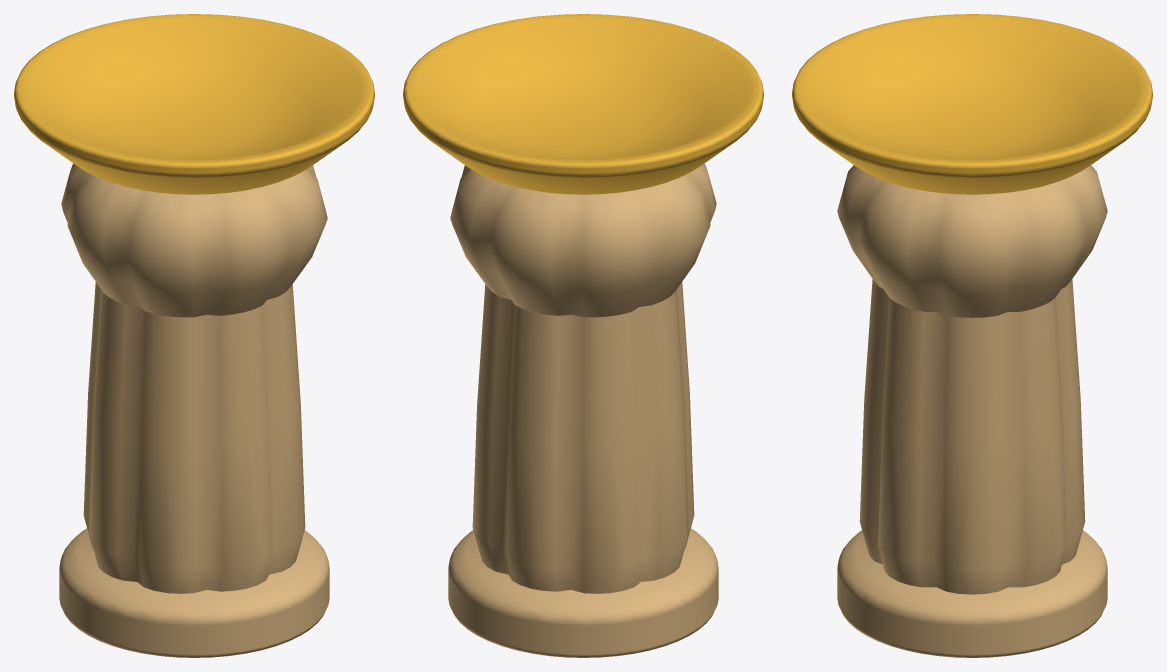
The model's file is K_SocketCup.fbx.
The picture shows the model from 3 angles, left to right: view 1: azimuth 30°, elevation 25°; view 2: azimuth 150°, elevation 25°; view 3: azimuth 270°, elevation 25°; orthographic projection.
Visible parts, largest first — view 1: K_SocketCup; view 2: K_SocketCup; view 3: K_SocketCup.
Part boxes in pixels (x1,y1,x2,y2): K_SocketCup: (14,14,374,657); K_SocketCup: (403,14,763,657); K_SocketCup: (792,14,1152,657).
Bounding box in the file's own units: 0.8 × 1.26 × 0.8.
